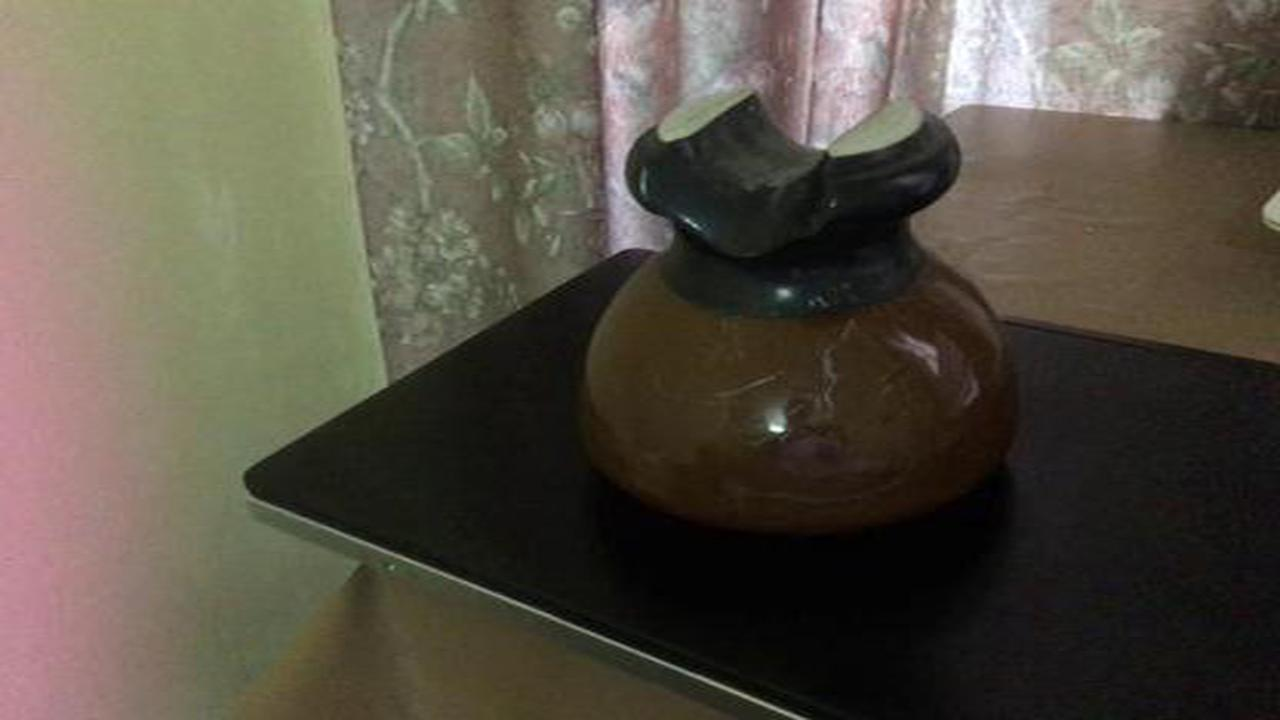insulator_pin: (554, 63, 1053, 570)
